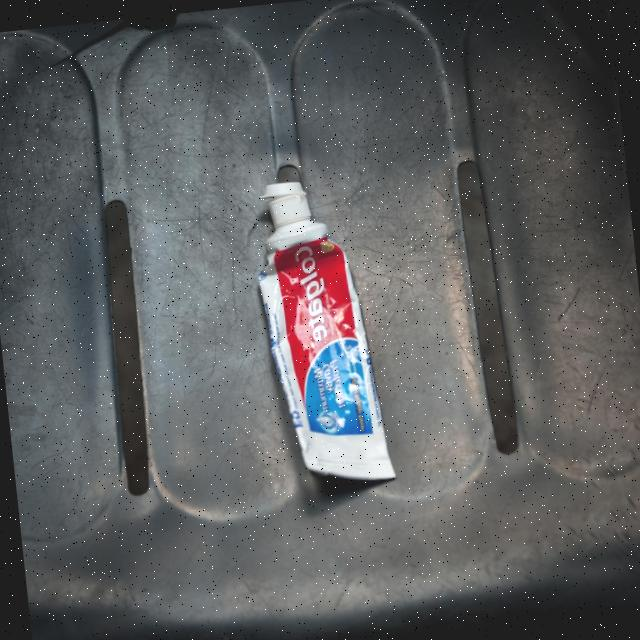Toothpaste: (237, 164, 399, 498)
